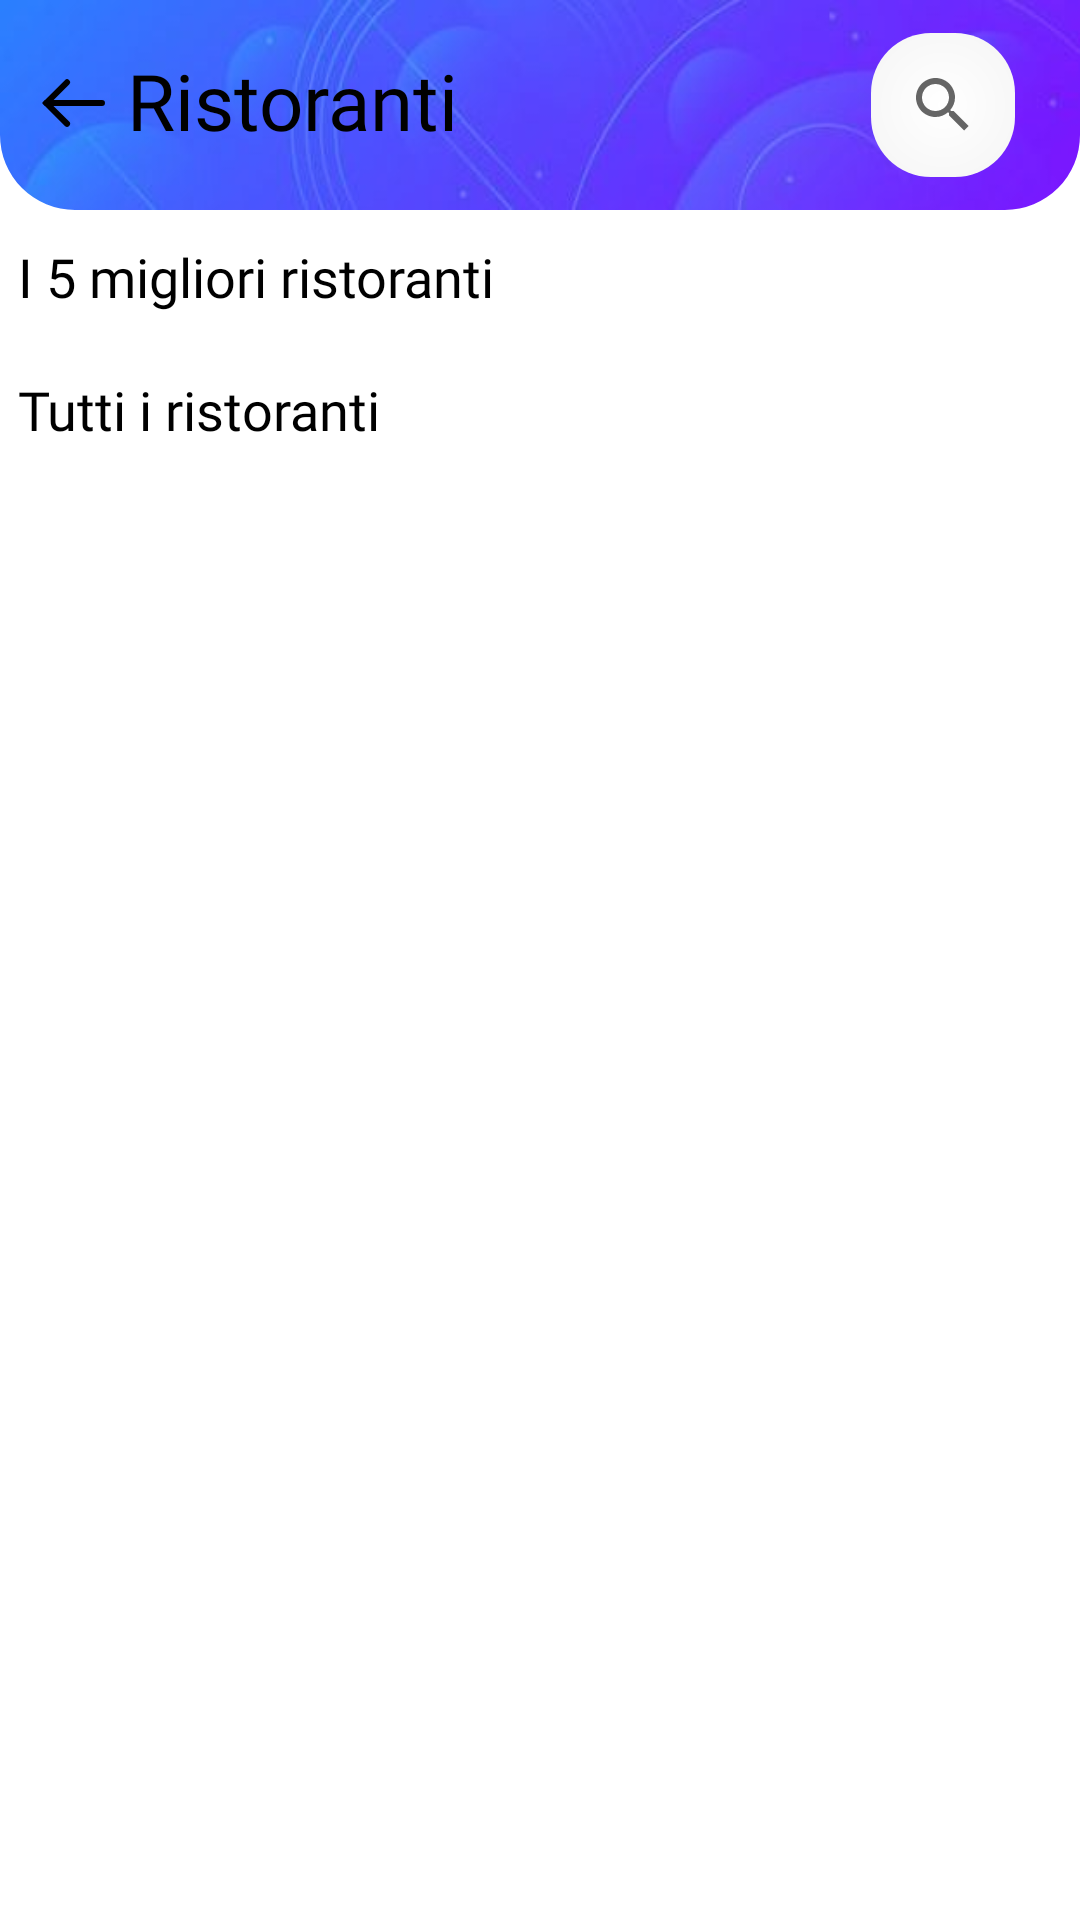

Named icons in this screenshot (1080 × 1920) and their bounding boxes, (x1, y1, x2, y2):
arrow back: (42, 79, 105, 127)
